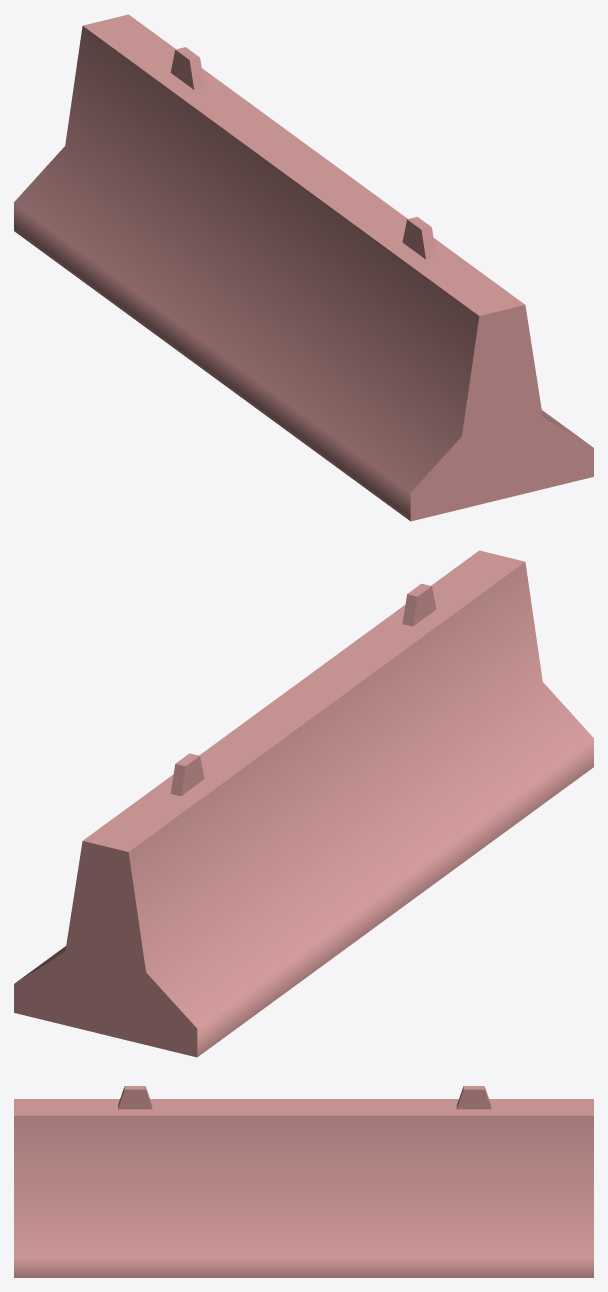
Rendered from ConcreteBarrier_A_A_COL.fbx.
The picture shows the model from 3 angles, top to bottom: view 1: azimuth 30°, elevation 25°; view 2: azimuth 150°, elevation 25°; view 3: azimuth 270°, elevation 25°; orthographic projection. The views are drawn at different scales.
Visible parts, largest first — view 1: ConcreteBarrier_A_A_COL; view 2: ConcreteBarrier_A_A_COL; view 3: ConcreteBarrier_A_A_COL.
Part boxes in pixels (x1,y1,x2,y2): ConcreteBarrier_A_A_COL: (14, 14, 593, 521); ConcreteBarrier_A_A_COL: (14, 550, 593, 1057); ConcreteBarrier_A_A_COL: (14, 1086, 593, 1277).
Size of the model in its own units: 80 by 89.8 by 300.
